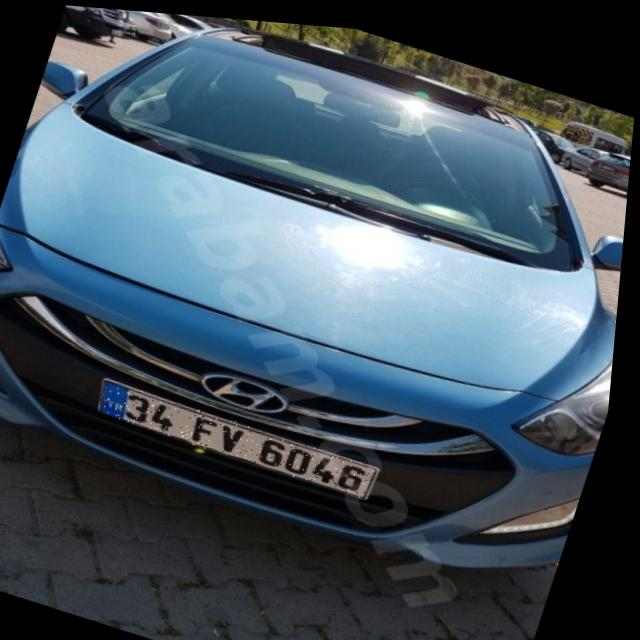license_plate: (96, 376, 389, 493)
